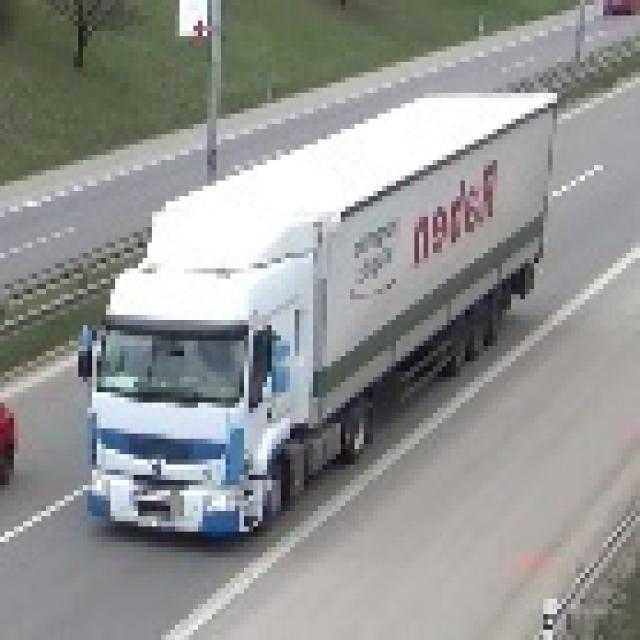TRUCK: (74, 95, 551, 540)
